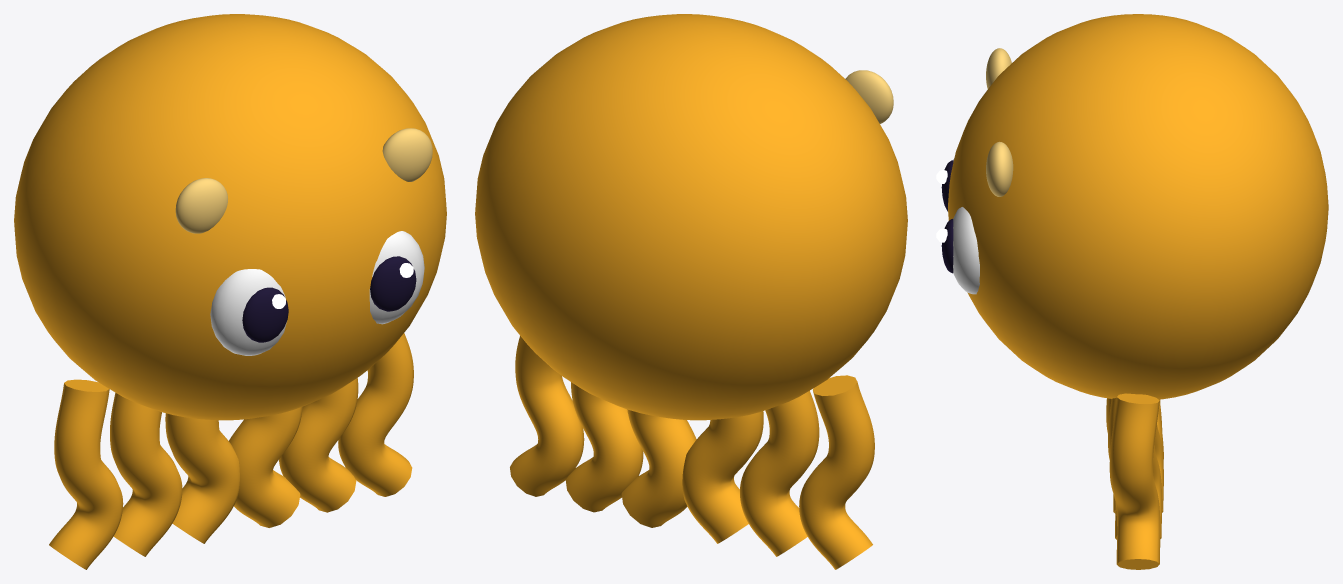
Rendered from mimozemstan_chobotnice.glb.
3 views of the same model, side by side, from view 1: azimuth 30°, elevation 25°; view 2: azimuth 150°, elevation 25°; view 3: azimuth 270°, elevation 25° (orthographic). The views are drawn at different scales.
Parts seen in each view (by area): view 1: chob_hlava, chob_chapadlo_m_0, chob_chapadlo_m_1, chob_chapadlo_m_5, chob_chapadlo_m_2, chob_chapadlo_m_4, chob_chapadlo_m_3, chob_oko_0, chob_skvrna_-1, chob_skvrna_1, chob_oko_1, chob_zornice_1 (+1 smaller); view 2: chob_hlava, chob_chapadlo_m_0, chob_chapadlo_m_1, chob_chapadlo_m_5, chob_chapadlo_m_2, chob_chapadlo_m_4, chob_chapadlo_m_3, chob_skvrna_-1; view 3: chob_hlava, chob_chapadlo_m_5, chob_oko_1, chob_skvrna_1, chob_chapadlo_m_4, chob_skvrna_-1, chob_chapadlo_m_3.
Part boxes in pixels (left/top/right/bottom): chob_hlava: left=14, top=14, right=446, bottom=420; chob_chapadlo_m_0: left=49, top=379, right=123, bottom=569; chob_chapadlo_m_1: left=110, top=392, right=182, bottom=556; chob_chapadlo_m_5: left=338, top=333, right=413, bottom=496; chob_chapadlo_m_2: left=165, top=413, right=239, bottom=543; chob_chapadlo_m_4: left=279, top=378, right=358, bottom=512; chob_chapadlo_m_3: left=229, top=406, right=302, bottom=527; chob_oko_0: left=210, top=269, right=286, bottom=355; chob_skvrna_-1: left=175, top=178, right=227, bottom=233; chob_skvrna_1: left=382, top=128, right=432, bottom=181; chob_oko_1: left=369, top=231, right=424, bottom=324; chob_zornice_1: left=370, top=256, right=416, bottom=311; chob_hlava: left=475, top=14, right=907, bottom=420; chob_chapadlo_m_0: left=799, top=375, right=874, bottom=569; chob_chapadlo_m_1: left=740, top=390, right=819, bottom=556; chob_chapadlo_m_5: left=510, top=336, right=584, bottom=496; chob_chapadlo_m_2: left=682, top=411, right=763, bottom=543; chob_chapadlo_m_4: left=565, top=382, right=643, bottom=512; chob_chapadlo_m_3: left=621, top=409, right=696, bottom=527; chob_skvrna_-1: left=845, top=70, right=893, bottom=123; chob_hlava: left=948, top=14, right=1328, bottom=399; chob_chapadlo_m_5: left=1109, top=393, right=1160, bottom=569; chob_oko_1: left=953, top=207, right=979, bottom=294; chob_skvrna_1: left=986, top=141, right=1013, bottom=196; chob_chapadlo_m_4: left=1108, top=398, right=1162, bottom=539; chob_skvrna_-1: left=986, top=48, right=1011, bottom=89; chob_chapadlo_m_3: left=1106, top=398, right=1163, bottom=513.
Size of the model in its own units: 1.2 by 1.5 by 1.13.
